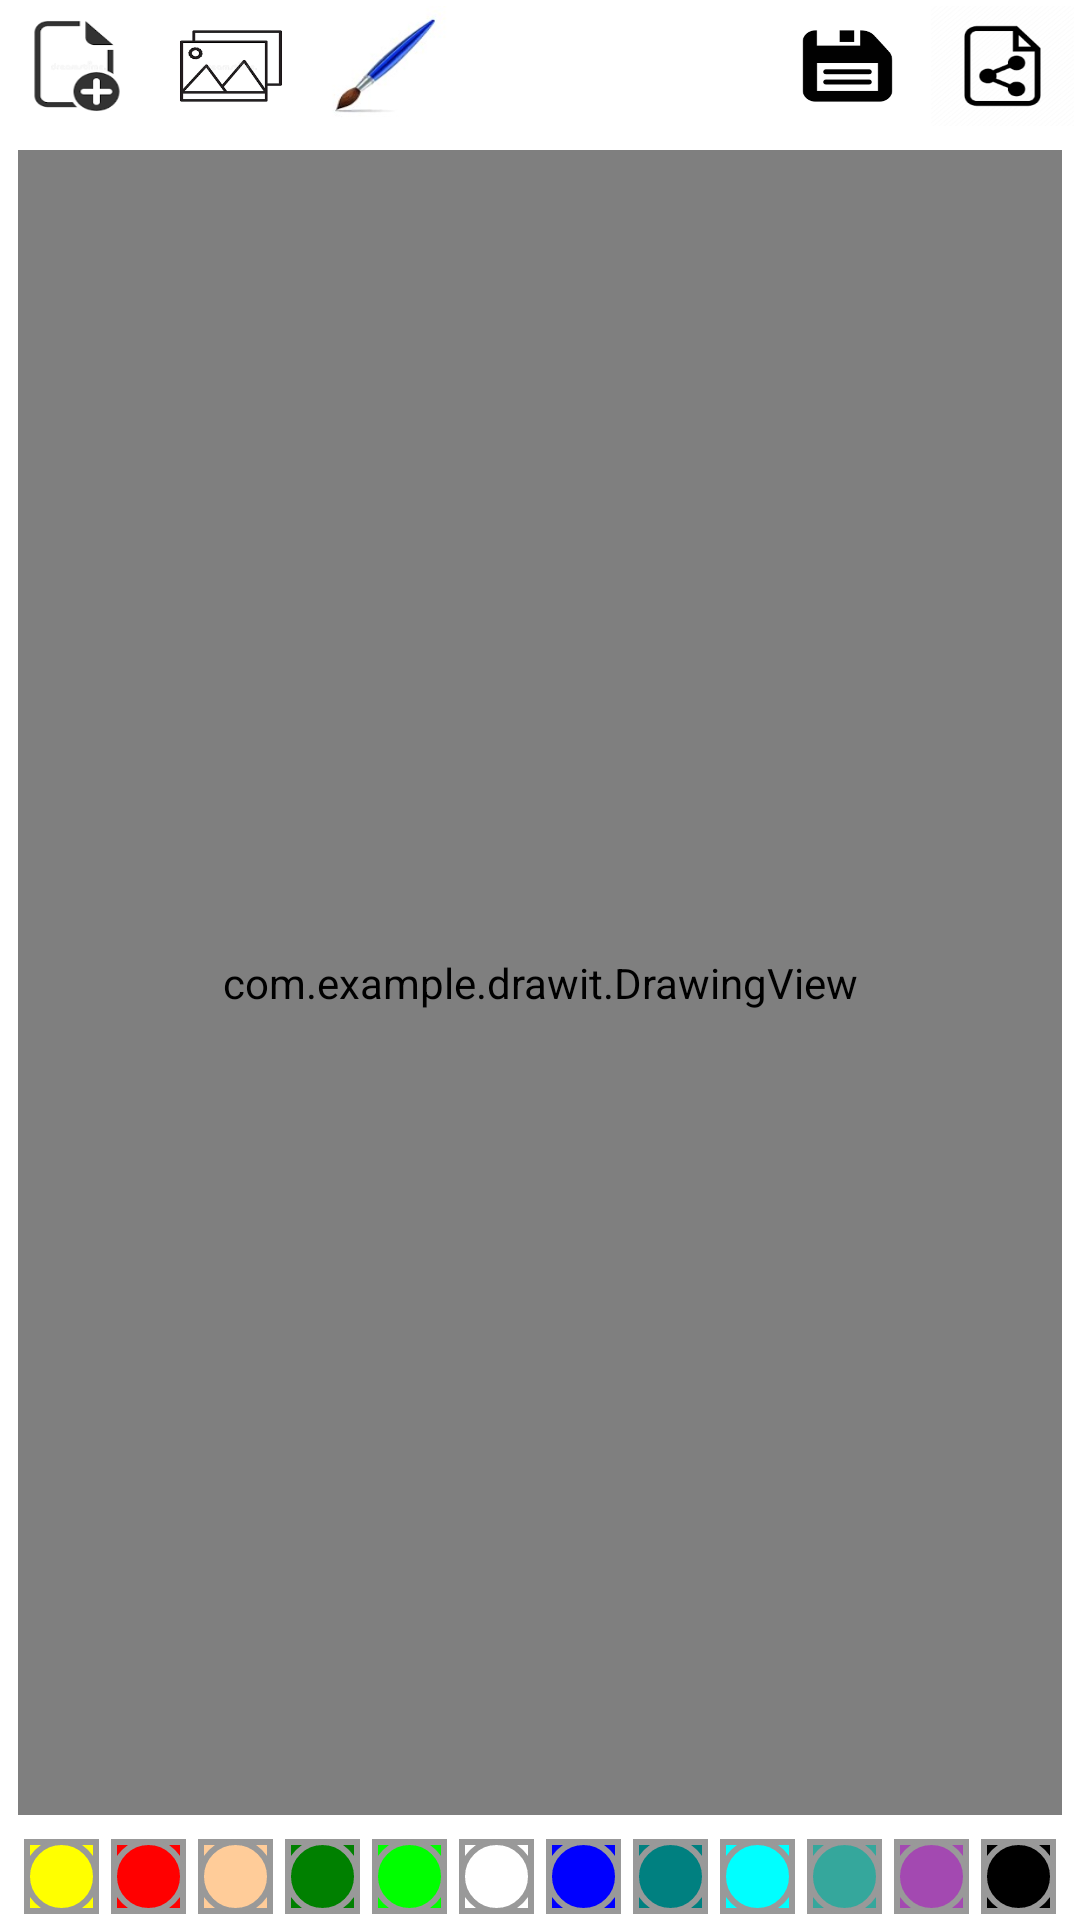

Icon click points for this 1080×1920 phone screenshot, format (x=x, y=y):
brush: (x=385, y=65)
file: (x=77, y=66)
save: (x=847, y=66)
share: (x=1002, y=66)
